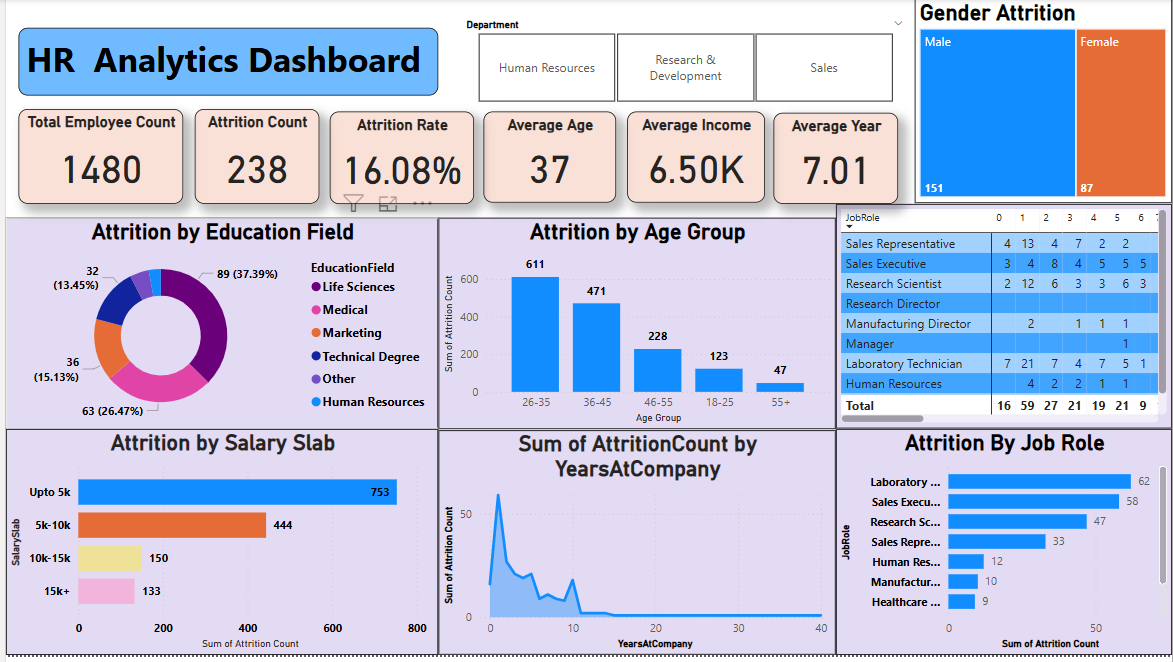

What the dashboard file says about the page in this screenshot:
{"tool":"powerbi","page":{"name":"Dashboard","canvas":[1280,720],"ordinal":8},"visuals":[{"type":"textbox","box":[14.3,31.4,460.4,74.1],"z":0},{"type":"slicer","fields":{"Values":["HR_Analytics.Department"]},"box":[493.2,17.1,504.6,102.6],"z":1000},{"type":"treemap","title":"Gender Attrition","fields":{"Group":["HR_Analytics.Gender"],"Values":["CountNonNull(HR_Analytics.EmpID)"]},"box":[997.8,0,282.2,223.8],"z":2000},{"type":"barChart","title":"Attrition By Job Role","fields":{"Category":["HR_Analytics.JobRole"],"Y":["CountNonNull(HR_Analytics.EmpID)"]},"box":[910.8,471.8,369.2,248],"z":3000},{"type":"pivotTable","fields":{"Rows":["HR_Analytics.JobRole"],"Columns":["HR_Analytics.YearsAtCompany"],"Values":["CountNonNull(HR_Analytics.EmpID)"]},"box":[910.8,225.2,369.2,246.6],"z":4000},{"type":"areaChart","title":"Sum of AttritionCount by YearsAtCompany ","fields":{"Category":["HR_Analytics.YearsAtCompany"],"Y":["CountNonNull(HR_Analytics.EmpID)"]},"box":[474.7,473.2,436.2,246.6],"z":5000},{"type":"barChart","title":"Attrition by Salary Slab","fields":{"Category":["HR_Analytics.SalarySlab"],"Y":["CountNonNull(HR_Analytics.EmpID)"]},"box":[0,471.8,474.7,248],"z":6000},{"type":"donutChart","title":"Attrition by Education Field","fields":{"Category":["HR_Analytics.EducationField"],"Y":["Sum(HR_Analytics.EmployeeCount)"]},"box":[0,239.5,474.7,232.3],"z":7000},{"type":"clusteredColumnChart","title":"Attrition by Age Group","fields":{"Y":["CountNonNull(HR_Analytics.EmpID)"],"Category":["HR_Analytics.AgeGroup"]},"box":[474.7,239.5,436.2,232.3],"z":8000},{"type":"card","title":"Total Employee Count","fields":{"Values":["HR_Analytics.TotalEmployees"]},"box":[14.3,121.2,181,104.1],"z":9000},{"type":"card","title":"Attrition Count","fields":{"Values":["HR_Analytics.AttritionCount"]},"box":[206.7,121.2,136.8,104.1],"z":10000},{"type":"card","title":"Average Age","fields":{"Values":["Avg(HR_Analytics.Age)"]},"box":[524.5,124,145.4,99.8],"z":11000},{"type":"card","title":"Average Income","fields":{"Values":["Avg(HR_Analytics.MonthlyIncome)"]},"box":[681.3,124,151.1,99.8],"z":12000},{"type":"card","title":"Average Year ","fields":{"Values":["Avg(HR_Analytics.YearsAtCompany)"]},"box":[842.4,125.4,136.8,99.8],"z":13000},{"type":"card","title":"Attrition Rate","fields":{"Values":["HR_Analytics.AttritionRate"]},"box":[354.9,124,158.2,101.2],"z":14000}]}

Visuals, with their boxes in screenshot pixels (x1, y1, x2, y2), scaled from the page's 1280x720 canvas onto the 1173x662 screenshot:
textbox: pyautogui.locateOnScreen(13, 29, 435, 97)
slicer - HR_Analytics.Department: pyautogui.locateOnScreen(452, 16, 914, 110)
"Gender Attrition" treemap: pyautogui.locateOnScreen(914, 0, 1172, 206)
"Attrition By Job Role" barChart: pyautogui.locateOnScreen(835, 434, 1172, 661)
pivotTable - HR_Analytics.JobRole x HR_Analytics.YearsAtCompany: pyautogui.locateOnScreen(835, 207, 1172, 434)
"Sum of AttritionCount by YearsAtCompany " areaChart: pyautogui.locateOnScreen(435, 435, 835, 661)
"Attrition by Salary Slab" barChart: pyautogui.locateOnScreen(0, 434, 435, 661)
"Attrition by Education Field" donutChart: pyautogui.locateOnScreen(0, 220, 435, 434)
"Attrition by Age Group" clusteredColumnChart: pyautogui.locateOnScreen(435, 220, 835, 434)
"Total Employee Count" card: pyautogui.locateOnScreen(13, 111, 179, 207)
"Attrition Count" card: pyautogui.locateOnScreen(189, 111, 315, 207)
"Average Age" card: pyautogui.locateOnScreen(481, 114, 614, 206)
"Average Income" card: pyautogui.locateOnScreen(624, 114, 763, 206)
"Average Year " card: pyautogui.locateOnScreen(772, 115, 897, 207)
"Attrition Rate" card: pyautogui.locateOnScreen(325, 114, 470, 207)
